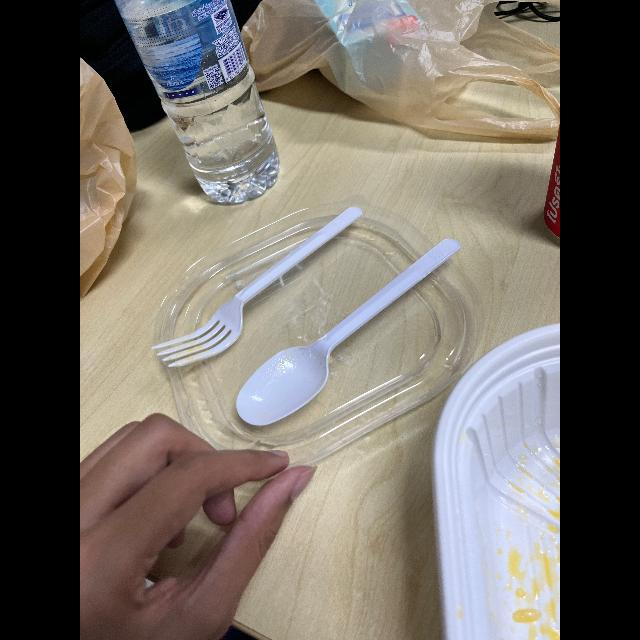plastic_cultery: (231, 231, 464, 434), (157, 194, 360, 378)
